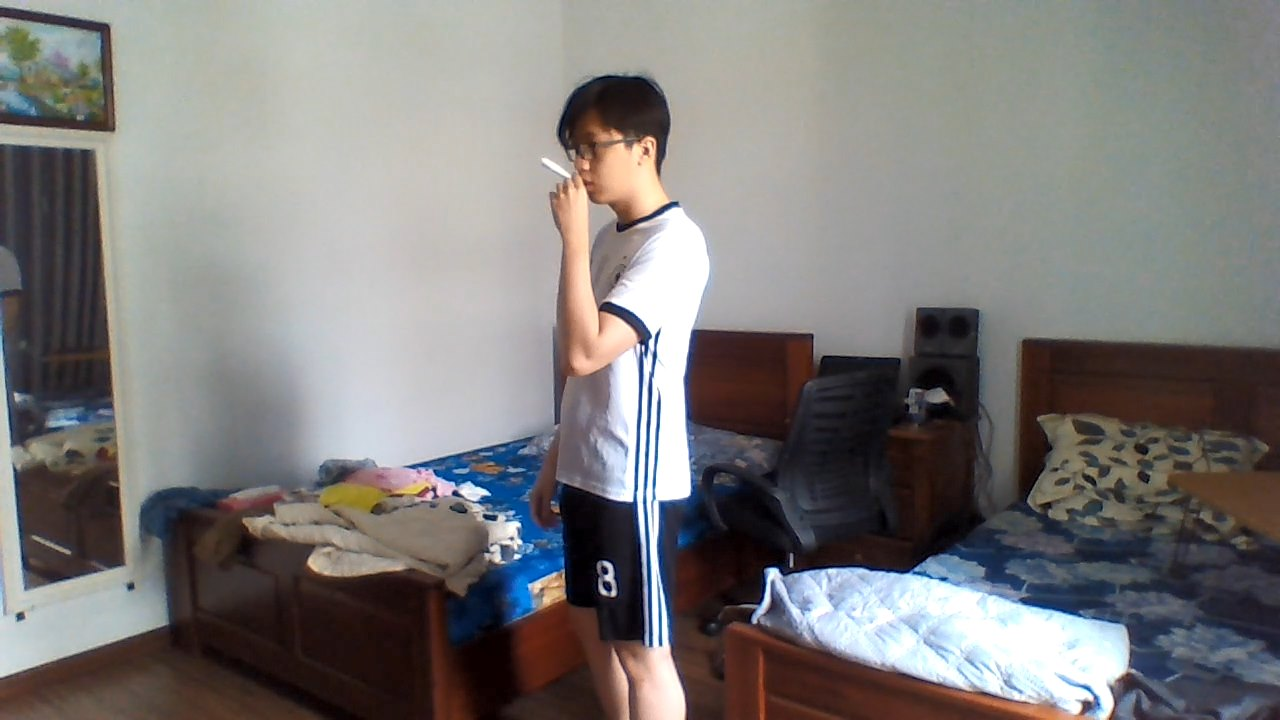cigarette: (540, 155, 572, 181)
person: (506, 55, 723, 720)
